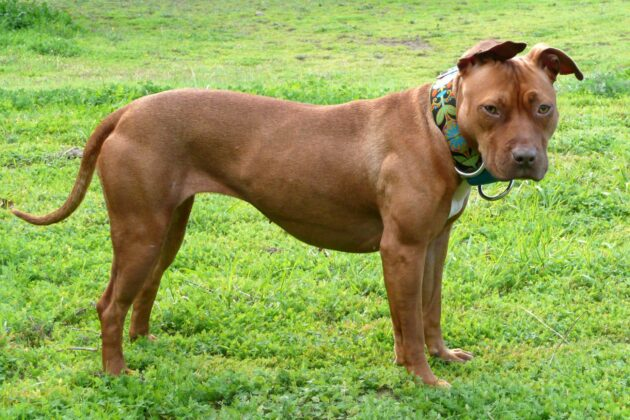am_pit_bull_terrier: (12, 38, 584, 388)
